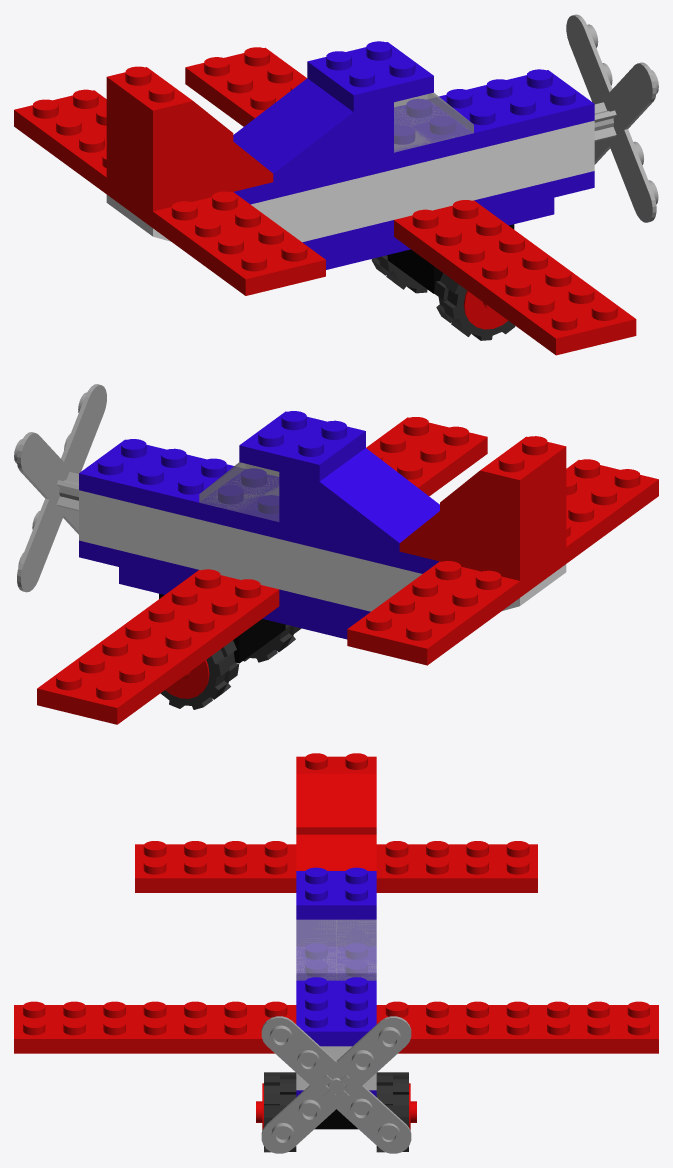
Rendered from LegoPlane.fbx.
3 views of the same model, one above another, from view 1: azimuth 30°, elevation 25°; view 2: azimuth 150°, elevation 25°; view 3: azimuth 270°, elevation 25° (orthographic). The views are drawn at different scales.
Parts seen in each view (by area): view 1: pCube22, pCube54, pCube60, polySurface108, polySurface116, pCube72, pCube71, pCube62, pCube64, pCube55, polySurface124, pCube59 (+15 smaller); view 2: pCube64, pCube54, pCube62, polySurface108, polySurface116, pCube72, pCube71, pCube60, pCube22, pCube55, polySurface124, pCube59 (+15 smaller); view 3: pCube22, pCube64, pCube72, pCube60, pCube62, polySurface116, polySurface110, pCube71, polySurface115, pCube55, pCube59, pCube56 (+3 smaller).
Boxes of the visible parts, <box> form: pCube22: <box>394,200,636,355</box>; pCube54: <box>106,120,594,242</box>; pCube60: <box>153,191,325,295</box>; polySurface108: <box>233,78,393,181</box>; polySurface116: <box>106,66,233,160</box>; pCube72: <box>566,14,656,222</box>; pCube71: <box>307,41,433,111</box>; pCube62: <box>14,89,106,193</box>; pCube64: <box>185,47,306,126</box>; pCube55: <box>439,79,554,149</box>; polySurface124: <box>106,127,192,211</box>; pCube59: <box>394,99,473,169</box>; pCube64: <box>37,569,279,724</box>; pCube54: <box>79,490,566,611</box>; pCube62: <box>347,561,519,665</box>; polySurface108: <box>279,448,439,551</box>; polySurface116: <box>440,436,566,530</box>; pCube72: <box>17,384,106,592</box>; pCube71: <box>239,411,365,481</box>; pCube60: <box>566,459,658,563</box>; pCube22: <box>366,417,487,496</box>; pCube55: <box>119,448,234,519</box>; polySurface124: <box>480,497,566,580</box>; pCube59: <box>199,468,279,538</box>; pCube22: <box>14,1001,296,1053</box>; pCube64: <box>376,1001,658,1053</box>; pCube72: <box>261,1016,411,1153</box>; pCube60: <box>135,841,296,892</box>; pCube62: <box>376,841,537,892</box>; polySurface116: <box>296,753,376,834</box>; polySurface110: <box>296,919,376,980</box>; pCube71: <box>296,867,376,919</box>; polySurface115: <box>296,834,376,870</box>; pCube55: <box>296,977,376,1014</box>; pCube59: <box>296,943,376,980</box>; pCube56: <box>296,1011,376,1046</box>.
Size of the model in its own units: 123 by 71.99 by 160.
